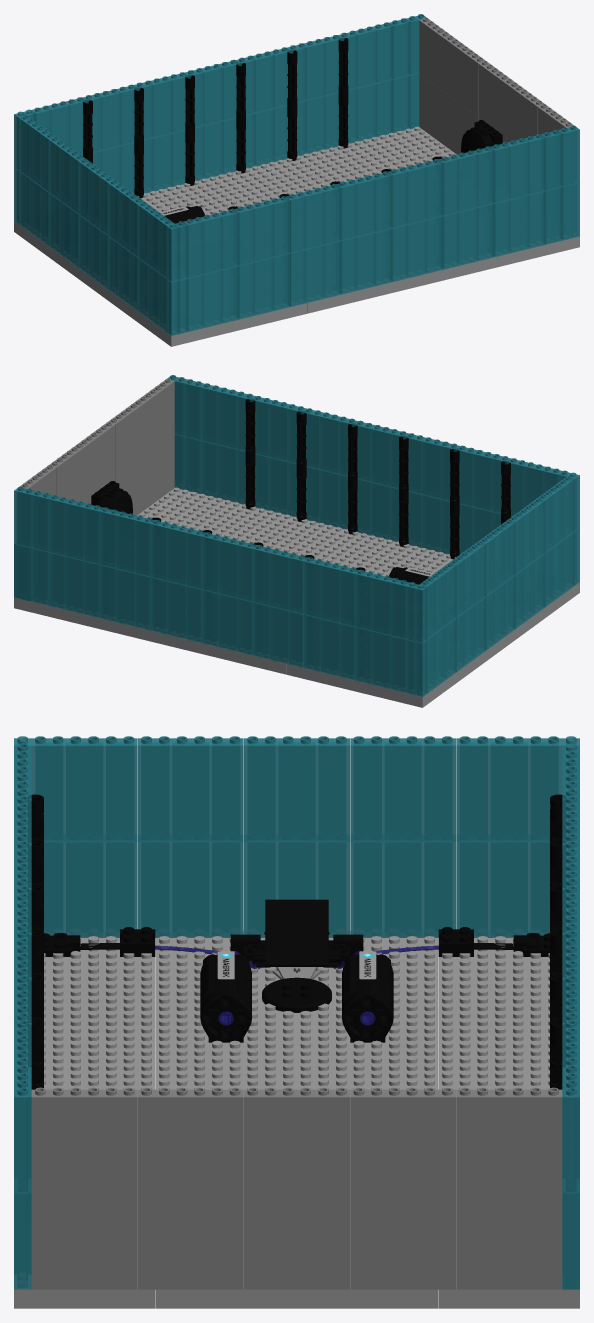
File: ROOM.dae
3 views of the same model, one above another, from view 1: azimuth 30°, elevation 25°; view 2: azimuth 150°, elevation 25°; view 3: azimuth 270°, elevation 25° (orthographic). The views are drawn at different scales.
Parts seen in each view (by area): view 1: Part_4204.1, Part_4204.94, Part_3754.68, Part_3754.70, Part_3754.101, Part_3754.67, Part_3754.69, Part_3754.71, Part_3754.100, Part_3754.10, Part_3754.11, Part_3754.13 (+67 smaller); view 2: Part_4204.4, Part_4204.91, Part_3754.84, Part_3754.82, Part_3754.104, Part_3754.85, Part_3754.81, Part_3754.83, Part_3754.111, Part_3754.15, Part_3754.16, Part_3754.18 (+67 smaller); view 3: Part_3754.86, Part_3754.90, Part_3754.89, Part_3754.87, Part_3754.88, Part_4204.5, Part_4204.8, Part_3754.76, Part_3754.75, Part_3754.77, Part_3754.78, Part_3754.74 (+59 smaller).
Boxes of the visible parts, x1,y1,x2,y2 form: Part_4204.1: (155,157,324,212); Part_4204.94: (295,126,452,183); Part_3754.68: (337,171,392,240); Part_3754.70: (235,196,290,265); Part_3754.101: (439,146,494,215); Part_3754.67: (388,159,443,228); Part_3754.69: (286,184,341,253); Part_3754.71: (184,208,239,278); Part_3754.100: (490,134,545,203); Part_3754.10: (341,229,392,294); Part_3754.11: (290,241,341,306); Part_3754.13: (188,266,239,331); Part_4204.4: (269,519,438,573); Part_4204.91: (141,487,298,544); Part_3754.84: (201,532,256,601); Part_3754.82: (303,557,358,626); Part_3754.104: (99,507,154,576); Part_3754.85: (150,520,205,589); Part_3754.81: (354,569,409,639); Part_3754.83: (252,545,307,614); Part_3754.111: (48,495,103,564); Part_3754.15: (201,590,252,655); Part_3754.16: (252,602,303,667); Part_3754.18: (354,627,405,692); Part_3754.86: (31,1087,137,1193); Part_3754.90: (456,1087,562,1193); Part_3754.89: (350,1087,455,1193); Part_3754.87: (138,1087,243,1193); Part_3754.88: (244,1087,349,1193); Part_4204.5: (44,936,155,1050); Part_4204.8: (438,936,549,1050); Part_3754.76: (244,736,349,841); Part_3754.75: (138,736,243,841); Part_3754.77: (350,736,455,841); Part_3754.78: (456,736,562,841); Part_3754.74: (31,736,137,841).
Size of the model in its own units: 384 by 107 by 256.
